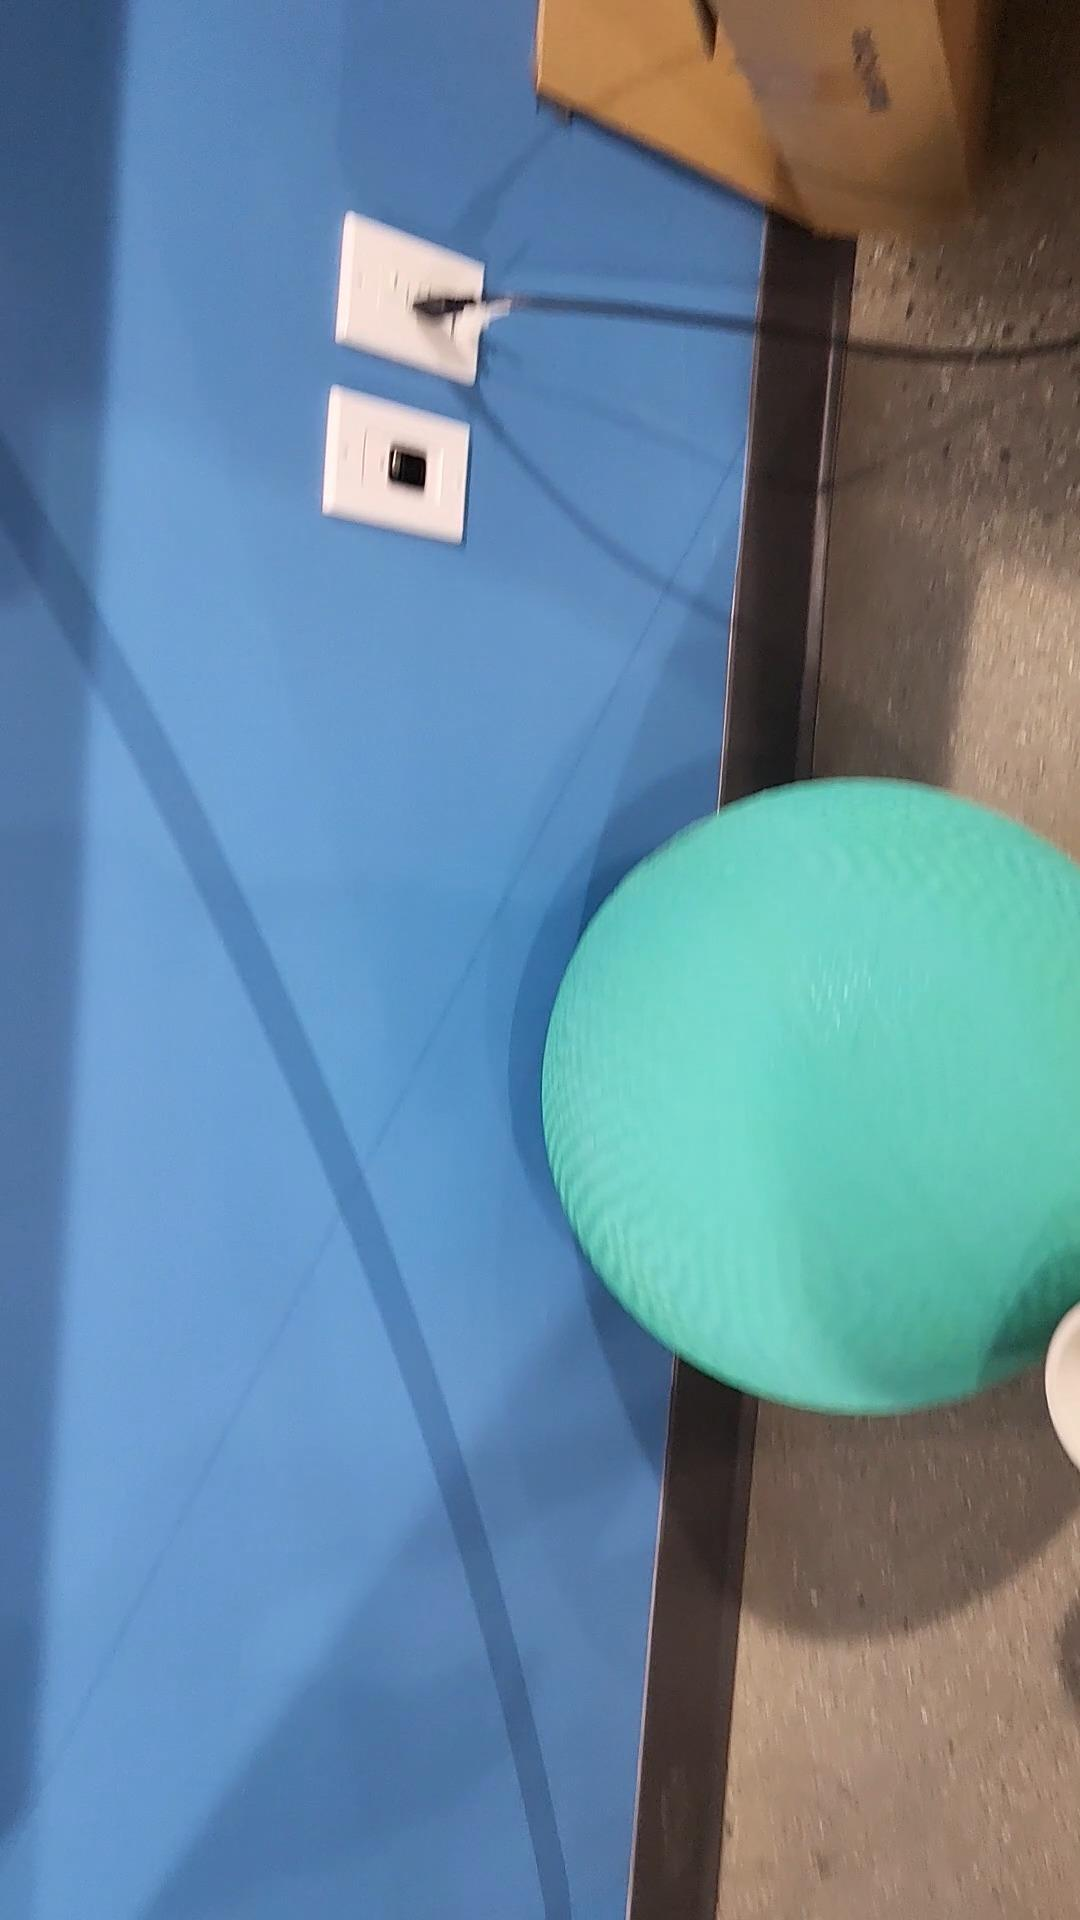algae: (545, 781, 1080, 1415)
coral: (1044, 1283, 1079, 1473)
